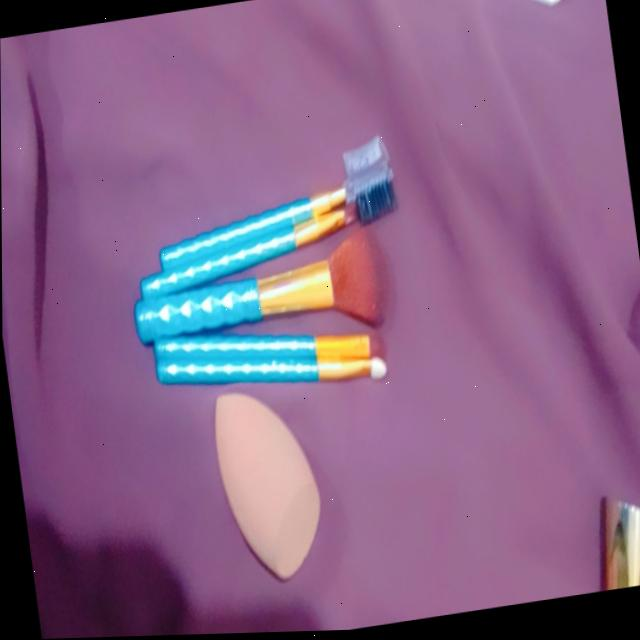beauty blender: (172, 369, 358, 620)
brush: (81, 112, 426, 429)
